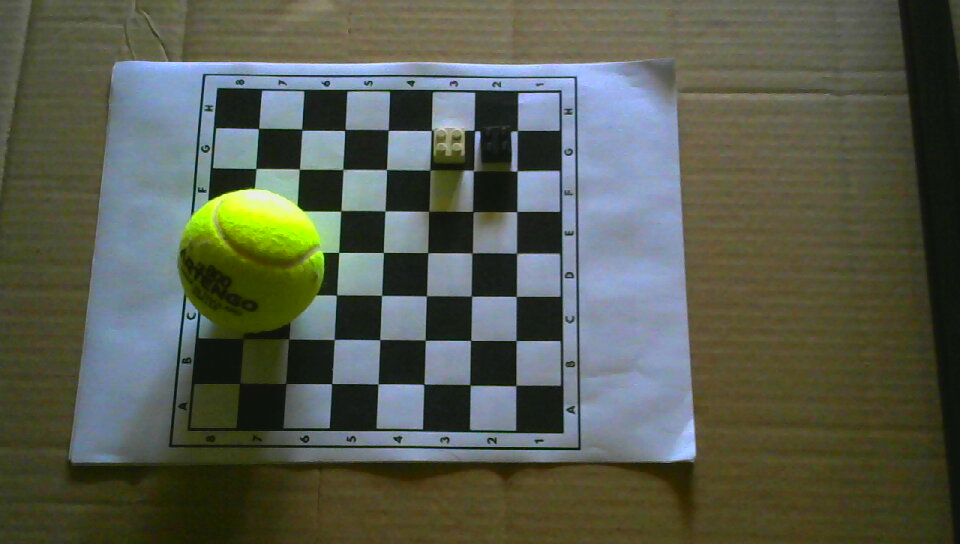bp: (478, 125, 514, 165)
wp: (432, 125, 469, 164)
